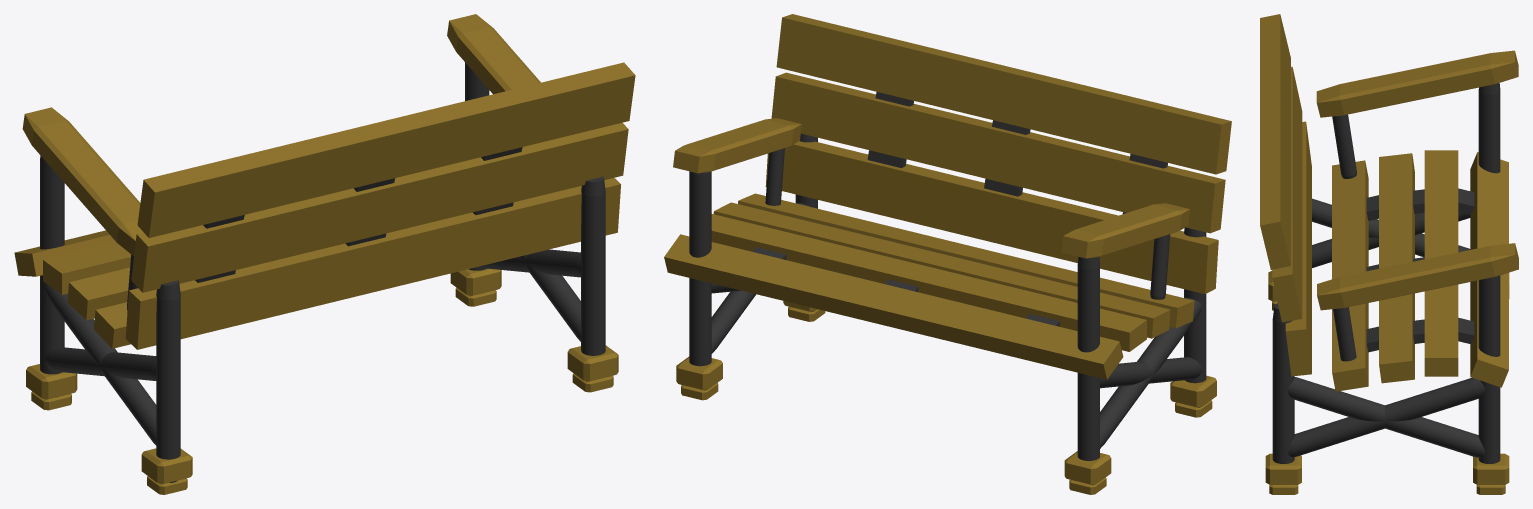
File: bench.fbx
3 views of the same model, side by side, from view 1: azimuth 30°, elevation 25°; view 2: azimuth 150°, elevation 25°; view 3: azimuth 270°, elevation 25° (orthographic). The views are drawn at different scales.
Visible parts, largest first — view 1: Cube.114, Cube.098, Cube.099, Cube.110, Cylinder.069, Cylinder.073, Cube.109, Cylinder.072, Cylinder.076, Cube.100, Cylinder.075, Cube.101 (+8 smaller); view 2: Cube.114, Cube.098, Cube.099, Cube.097, Cube.100, Cube.101, Cube.102, Cylinder.072, Cube.110, Cube.109, Cylinder.071, Cylinder.075 (+8 smaller); view 3: Cube.114, Cube.101, Cube.100, Cube.110, Cube.109, Cube.102, Cube.097, Cylinder.074, Cylinder.070, Cube.098, Cylinder.071, Cube.099 (+14 smaller).
Boxes of the visible parts, x1,y1,x2,y2 form: Cube.114: (137, 62, 635, 237); Cube.098: (131, 122, 628, 292); Cube.099: (125, 178, 620, 349); Cube.110: (22, 107, 143, 256); Cylinder.069: (156, 280, 180, 482); Cylinder.073: (581, 176, 605, 355); Cube.109: (447, 14, 540, 94); Cylinder.072: (40, 155, 64, 397); Cylinder.076: (45, 285, 156, 445); Cube.100: (43, 242, 130, 294); Cylinder.075: (45, 347, 156, 380); Cube.101: (67, 267, 129, 320); Cube.114: (776, 14, 1231, 174); Cube.098: (771, 72, 1225, 233); Cube.099: (765, 141, 1218, 293); Cube.097: (664, 234, 1123, 379); Cube.100: (711, 214, 1146, 351); Cube.101: (713, 202, 1170, 338); Cube.102: (738, 193, 1194, 328); Cylinder.072: (1077, 257, 1099, 460); Cube.110: (1061, 203, 1189, 258); Cube.109: (673, 118, 801, 173); Cylinder.071: (689, 171, 711, 366); Cylinder.075: (1100, 297, 1202, 448); Cube.114: (1260, 14, 1290, 269); Cube.101: (1379, 153, 1414, 383); Cube.100: (1424, 150, 1458, 376); Cube.110: (1316, 50, 1518, 117); Cube.109: (1317, 243, 1518, 310); Cube.102: (1332, 160, 1368, 391); Cube.097: (1470, 152, 1508, 387); Cylinder.074: (1287, 377, 1485, 457); Cylinder.070: (1287, 378, 1485, 457); Cube.098: (1272, 66, 1302, 322); Cylinder.071: (1478, 275, 1500, 463); Cube.099: (1285, 121, 1311, 376).
Bounding box in the file's own units: 677 × 427 × 357.
